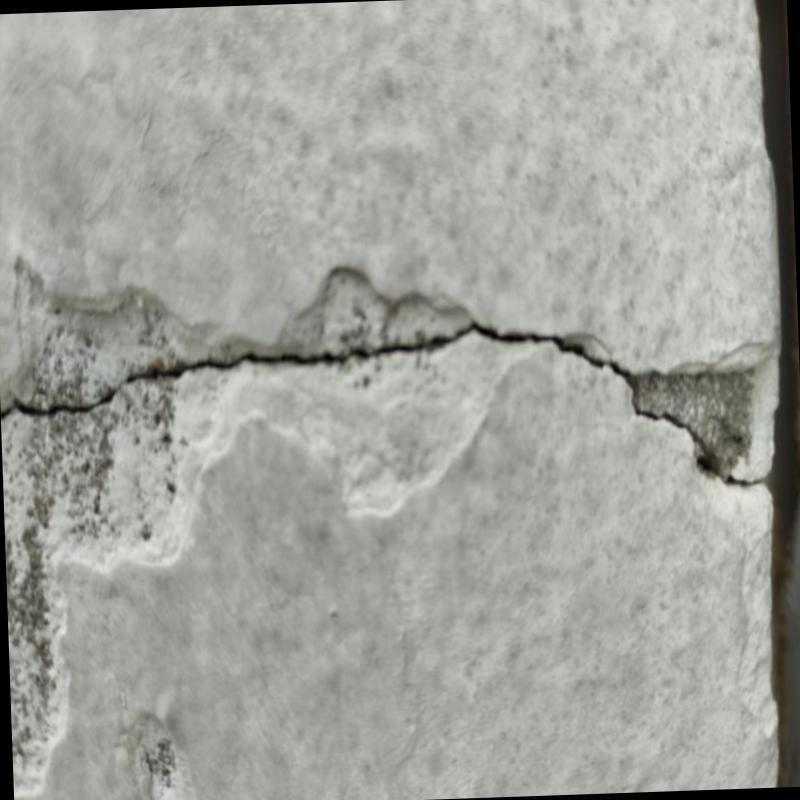crack: (0, 320, 765, 488)
